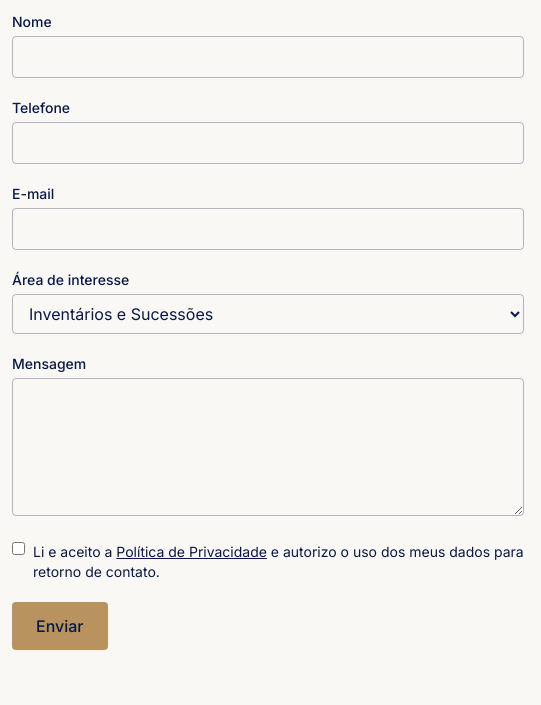
Test: ContactForm › submits to /api/contato when all fields and consent are provided
Step 1. Type "Maria Silva" into the field labelled "Nome" → (268, 57), box [12,36,524,78]
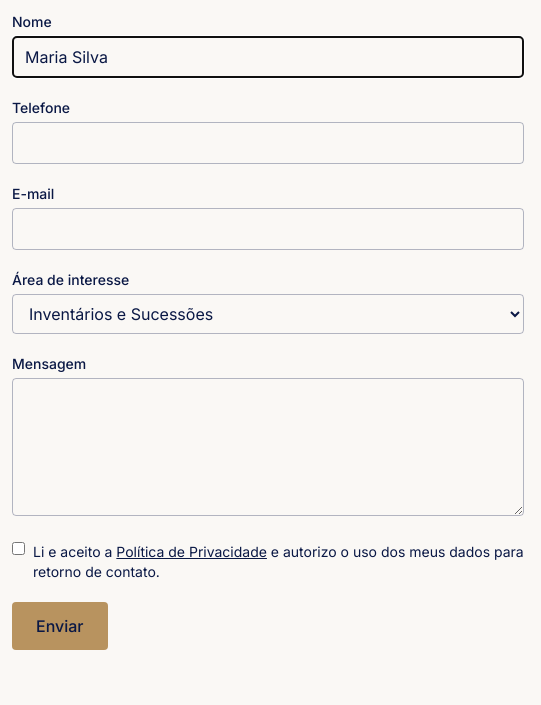
Step 2. Type "(21) 90000-0000" into the field labelled "Telefone" → (268, 143), box [12,122,524,164]
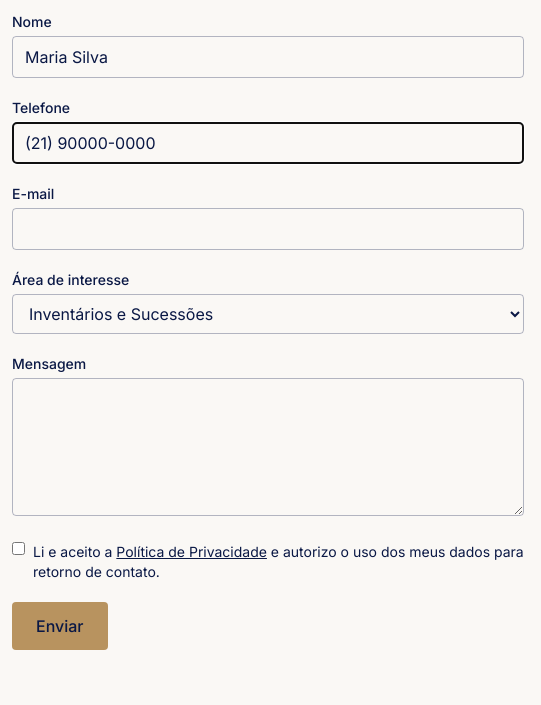
Step 3. Type "maria@example.com" into the field labelled "E-mail" → (268, 229), box [12,208,524,250]
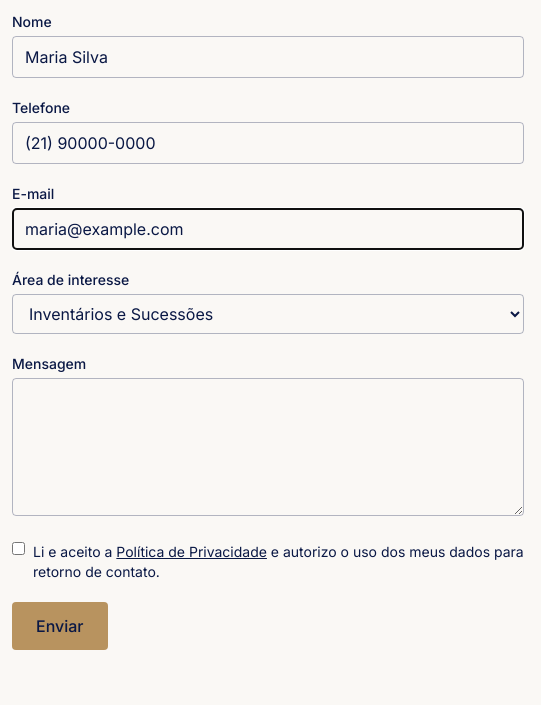
Step 4. Type "Preciso de ajuda." into the text box labelled "Mensagem" → (268, 447), box [12,378,524,516]
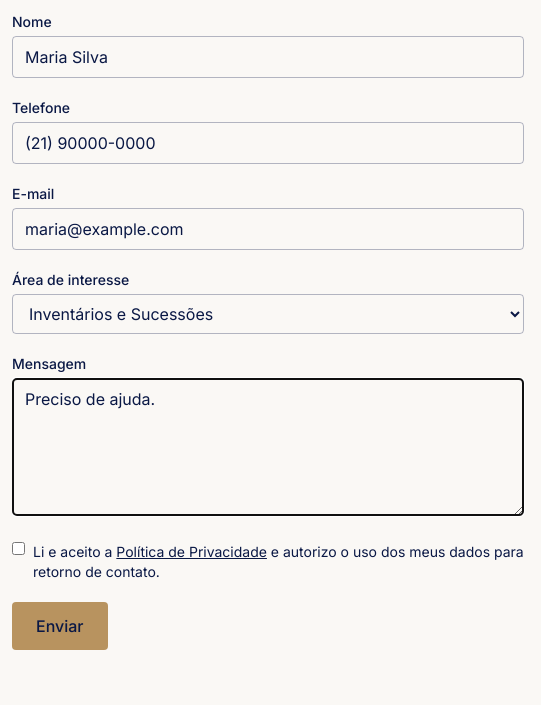
Step 5. Click the checkbox labelled "Li e aceito" → (18, 548), box [12,542,25,555]
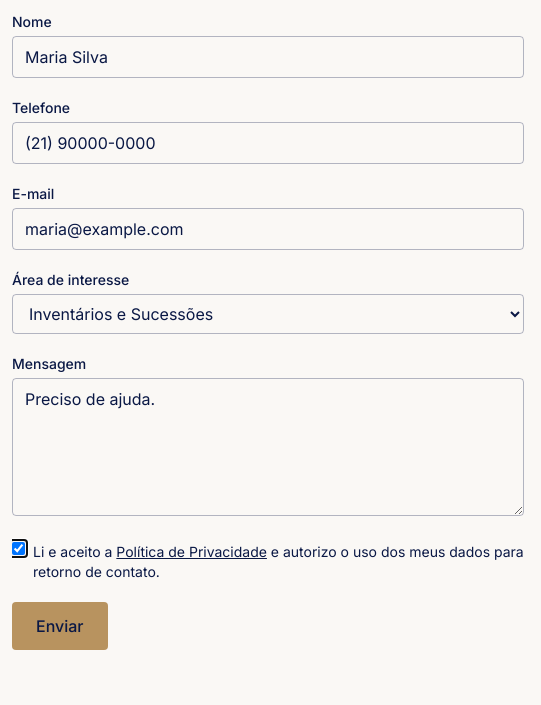
Step 6. Click the button "Enviar" → (60, 626), box [12,602,108,650]
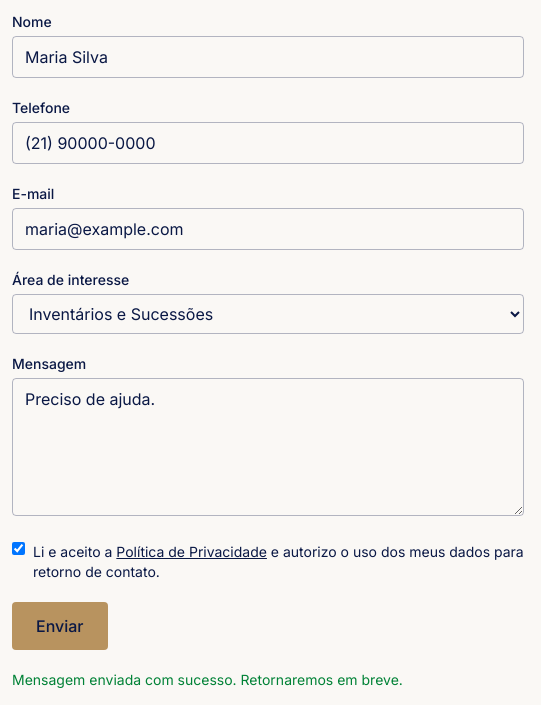
Expected: the text "Mensagem enviada com sucesso. Retornaremos em breve." is shown, [12,671,403,688]
